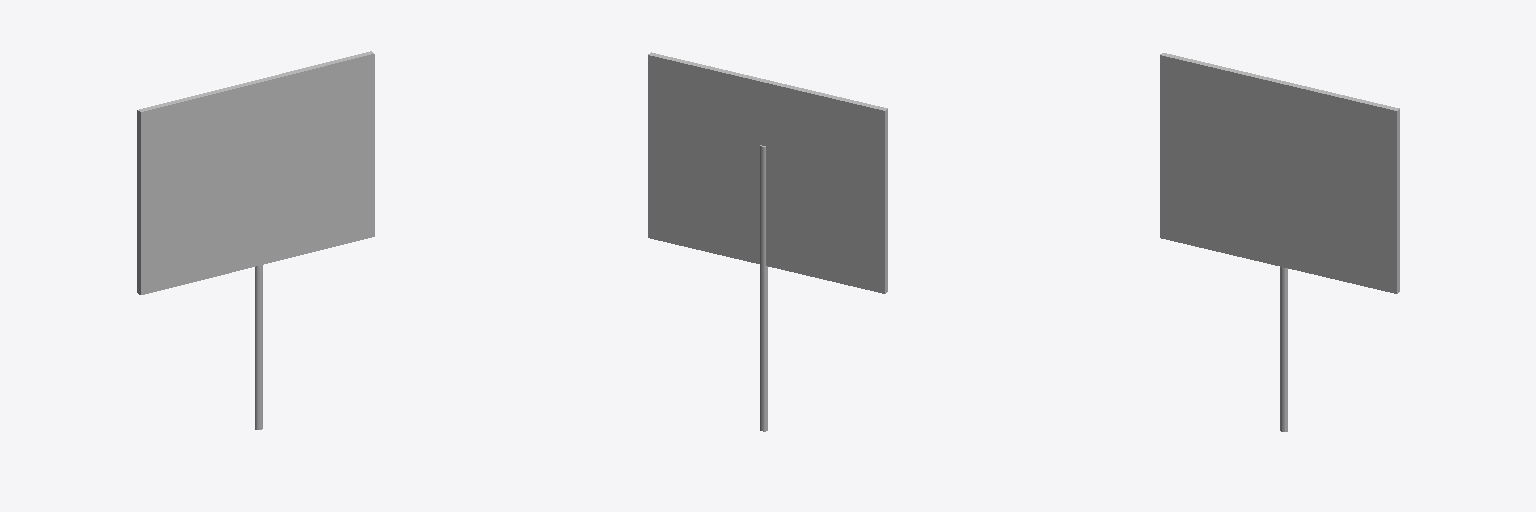
File: board_13.obj
3 renders of one model, left to right at view 1: azimuth 30°, elevation 25°; view 2: azimuth 150°, elevation 25°; view 3: azimuth 330°, elevation 25°, orthographic.
Visible parts, largest first — view 1: Cube.014_Cube.015, Cylinder.014; view 2: Cube.014_Cube.015, Cylinder.014; view 3: Cube.014_Cube.015, Cylinder.014.
Boxes of the visible parts, <box> form: Cube.014_Cube.015: <box>137,51,374,294</box>; Cylinder.014: <box>255,265,262,429</box>; Cube.014_Cube.015: <box>648,52,887,293</box>; Cylinder.014: <box>760,145,767,431</box>; Cube.014_Cube.015: <box>1160,53,1399,293</box>; Cylinder.014: <box>1280,267,1287,431</box>.
Size of the model in its own units: 0.3464 by 0.4895 by 0.0134.